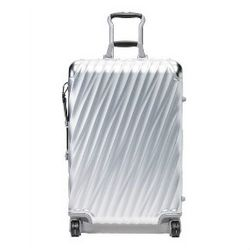luggage: (61, 10, 188, 241)
